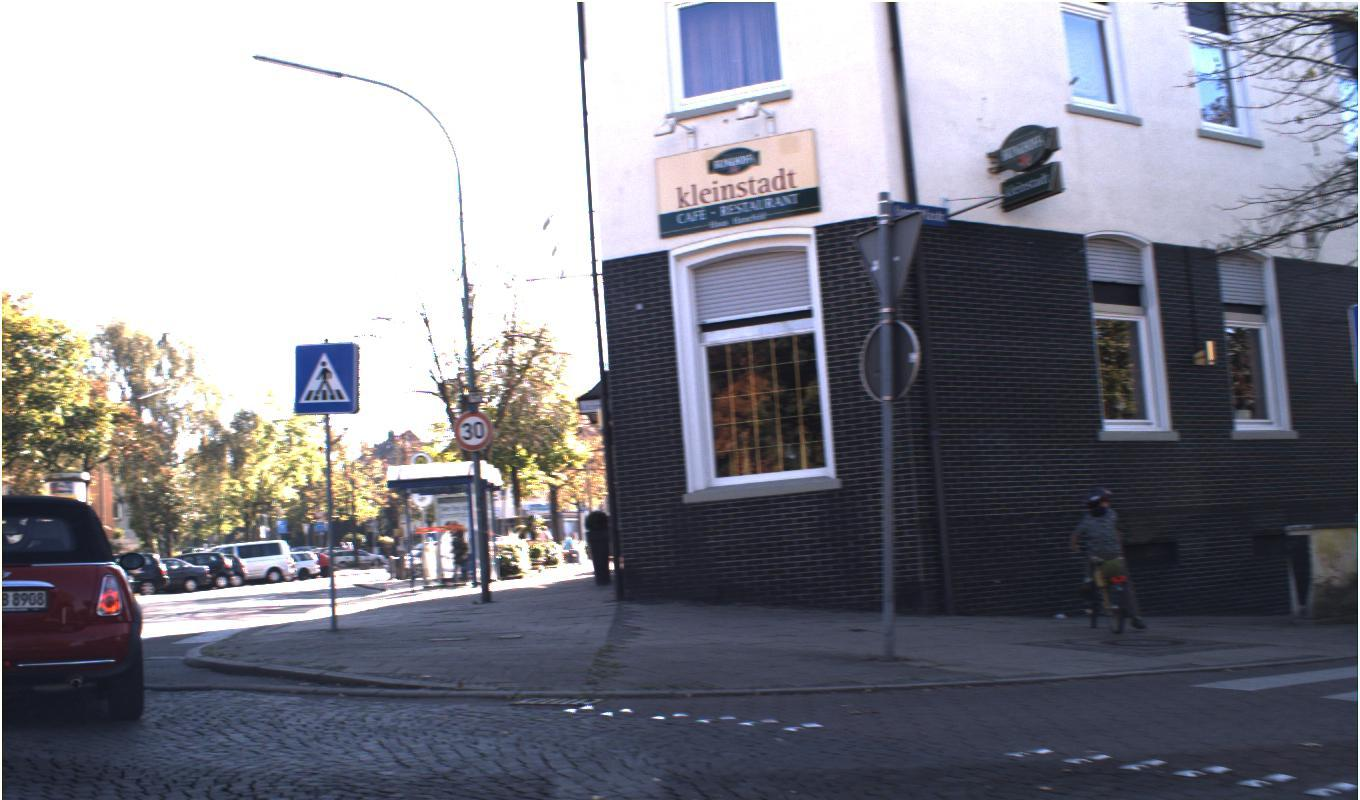speed limit 30 (prohibitory): (453, 411, 492, 451)
